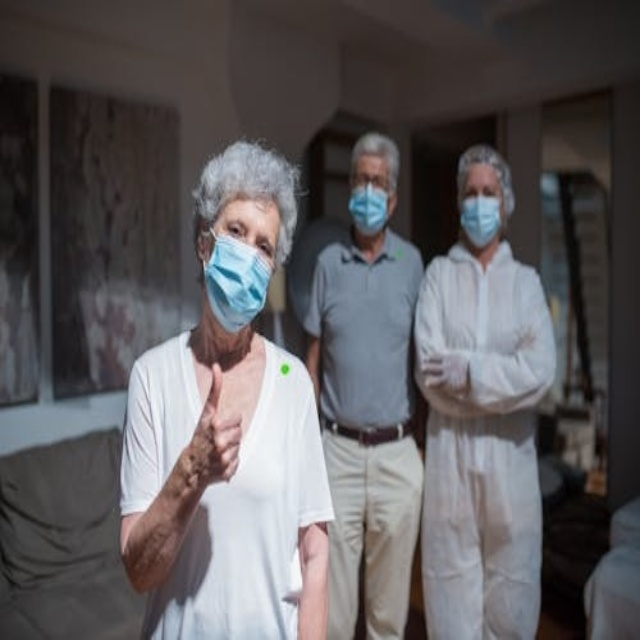Gafas: (349, 165, 392, 194)
Guantes: (441, 351, 473, 392)
Mascara: (202, 228, 274, 339), (344, 184, 394, 241)
Sin_gafas: (219, 207, 278, 257), (463, 178, 507, 201)
Sin_guantes: (184, 358, 250, 489)
